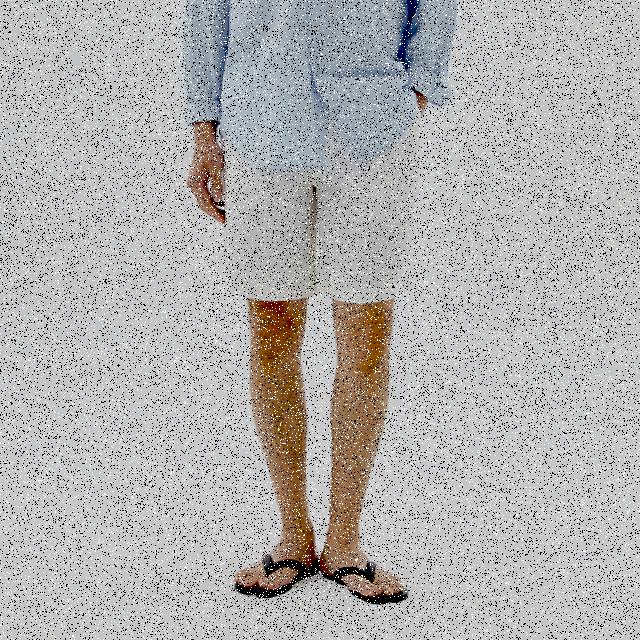Blouse_deep: (227, 72, 421, 300)
